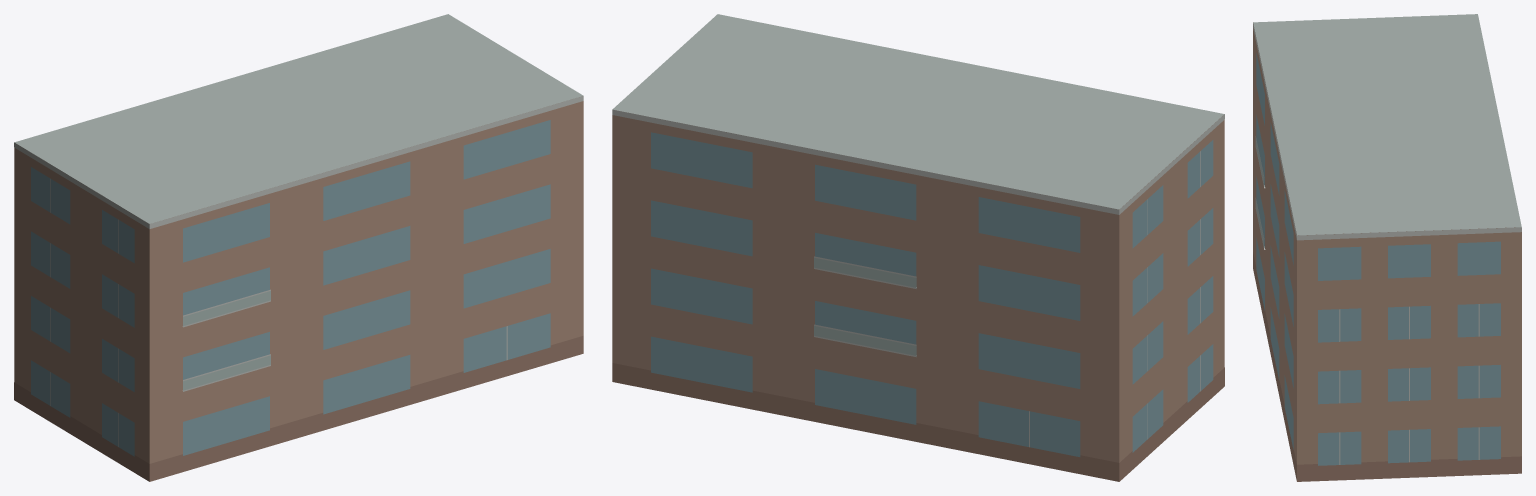
Rendered from residential-ff77e50b-ded8-43fa-ae03-f5400900a058.glb.
3 views of the same model, side by side, from view 1: azimuth 30°, elevation 25°; view 2: azimuth 150°, elevation 25°; view 3: azimuth 270°, elevation 25° (orthographic). The views are drawn at different scales.
Visible parts, largest first — view 1: residential-ff77e50b-ded8-43fa-ae03-f5400900a058.tmp; view 2: residential-ff77e50b-ded8-43fa-ae03-f5400900a058.tmp; view 3: residential-ff77e50b-ded8-43fa-ae03-f5400900a058.tmp.
Part boxes in pixels (x1,y1,x2,y2): residential-ff77e50b-ded8-43fa-ae03-f5400900a058.tmp: [14, 14, 583, 481]; residential-ff77e50b-ded8-43fa-ae03-f5400900a058.tmp: [612, 14, 1224, 481]; residential-ff77e50b-ded8-43fa-ae03-f5400900a058.tmp: [1253, 14, 1521, 481].
Bounding box in the file's own units: 23.53 × 12.2 × 12.07.
